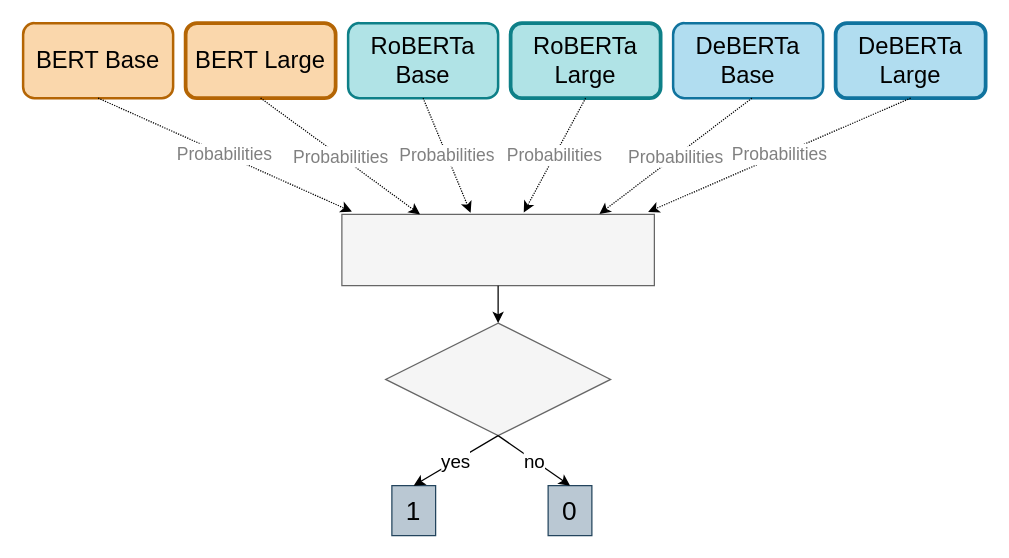
The diagram is 1009 pixels wide and 558 high, and some of its shapes have lost their labels. Here are the shapes that lost their labels. From the top down, the centre of each, then its label:
At (497,249): "SUM / 6".
At (497,379): "Result > 0.2?".
